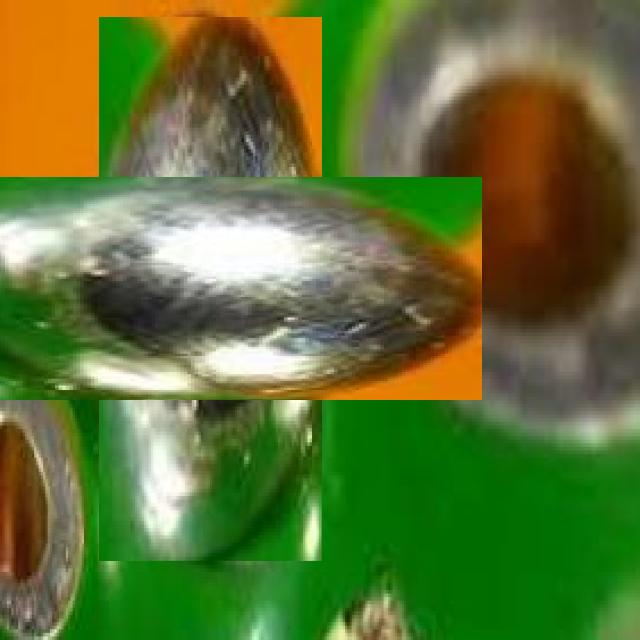redundant: (0, 178, 482, 400)
